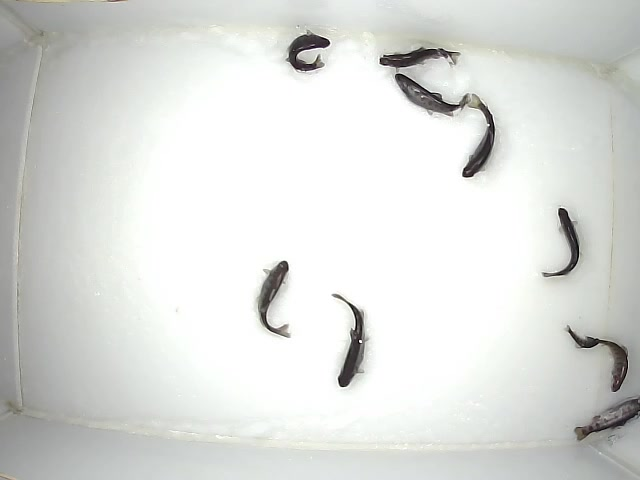fish: (331, 291, 368, 389), (250, 258, 293, 342), (393, 72, 465, 121), (537, 205, 584, 279), (460, 90, 497, 181), (573, 397, 640, 442), (585, 331, 628, 393), (377, 45, 463, 72), (286, 29, 332, 74), (566, 325, 596, 351)
